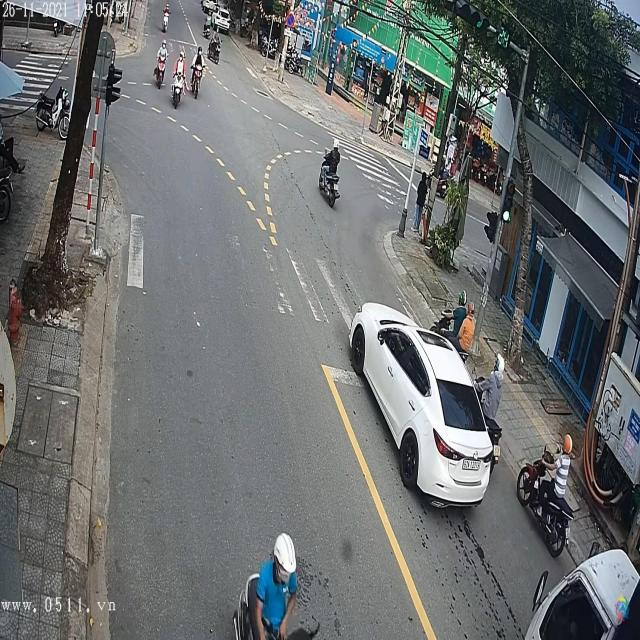car: (350, 300, 504, 511), (525, 549, 640, 640)
motorcycle: (516, 443, 574, 560), (321, 173, 342, 210), (169, 70, 184, 113), (155, 54, 169, 94), (207, 35, 222, 65)
